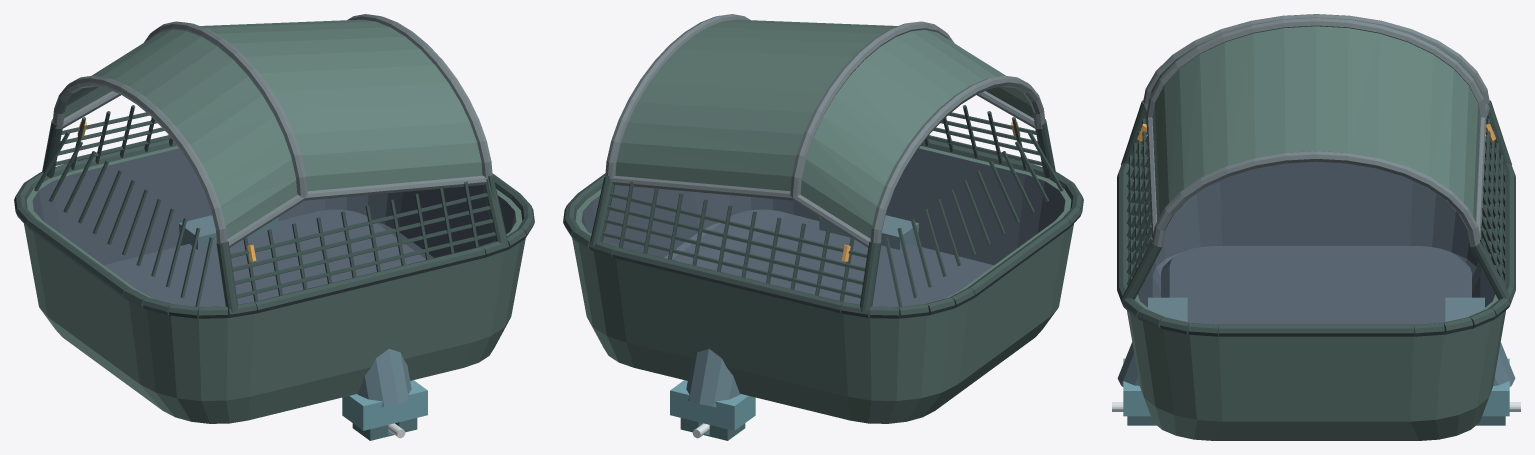
3 views of the same model, side by side, from view 1: azimuth 30°, elevation 25°; view 2: azimuth 150°, elevation 25°; view 3: azimuth 270°, elevation 25° (orthographic). The views are drawn at different scales.
Visible parts, largest first — view 1: S02_Cabin, S02_Cabin_Mount_M; view 2: S02_Cabin, S02_Cabin_Mount_M; view 3: S02_Cabin, S02_Cabin_Mount_M.
Part boxes in pixels (x1,y1,x2,y2): S02_Cabin: (14,14,534,423); S02_Cabin_Mount_M: (179,215,427,440); S02_Cabin: (563,14,1083,423); S02_Cabin_Mount_M: (670,215,918,440); S02_Cabin: (1117,14,1515,440); S02_Cabin_Mount_M: (1112,297,1520,425).
Bounding box in the file's own units: 0.372 × 0.3095 × 0.322.
